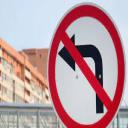NoVirarEsquerda: (46, 1, 126, 128)
